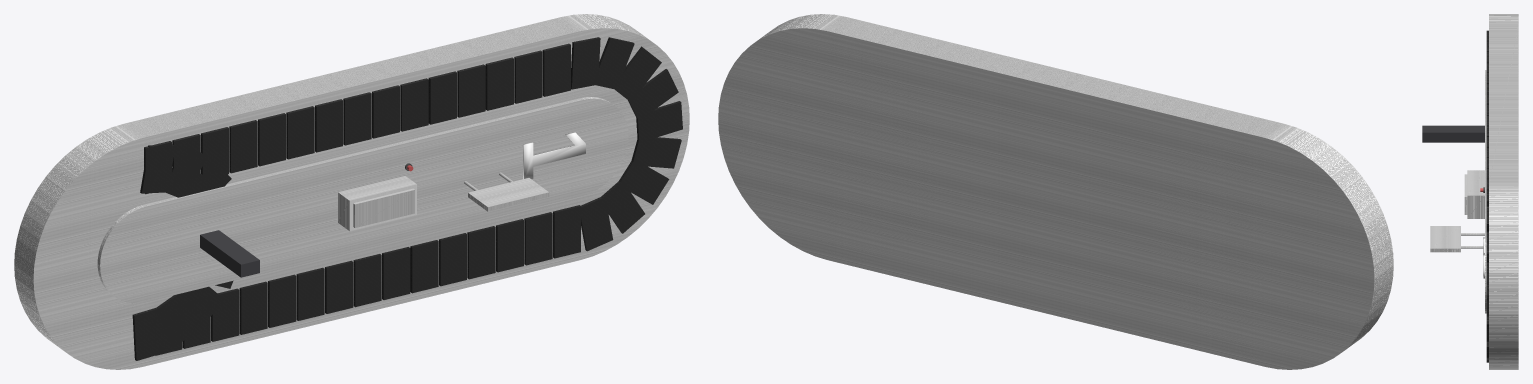
File: Đảo nhận hành lý 1.glb
The picture shows the model from 3 angles, left to right: view 1: azimuth 30°, elevation 25°; view 2: azimuth 150°, elevation 25°; view 3: azimuth 270°, elevation 25°; orthographic projection. The views are drawn at different scales.
Visible parts, largest first — view 1: conveyor_belt, frame, center_platform, service_box, information_screen_frame, number_sign_body, number_node_1; view 2: frame; view 3: frame, number_sign_body, conveyor_belt, service_box, information_screen_frame, center_platform.
Boxes of the visible parts, box(x1,y1,x2,y2) form: conveyor_belt: box(132, 37, 682, 360); frame: box(14, 14, 689, 369); center_platform: box(97, 97, 628, 303); service_box: box(338, 176, 416, 231); information_screen_frame: box(464, 172, 549, 211); number_sign_body: box(200, 230, 259, 277); number_node_1: box(523, 132, 585, 179); frame: box(718, 14, 1393, 369); frame: box(1489, 14, 1518, 369); number_sign_body: box(1422, 125, 1484, 142); conveyor_belt: box(1486, 30, 1488, 362); service_box: box(1464, 170, 1484, 218); information_screen_frame: box(1430, 226, 1484, 252); center_platform: box(1485, 70, 1486, 313).
Size of the model in its own units: 18 by 6 by 3.
8 materials, 7 textured.
